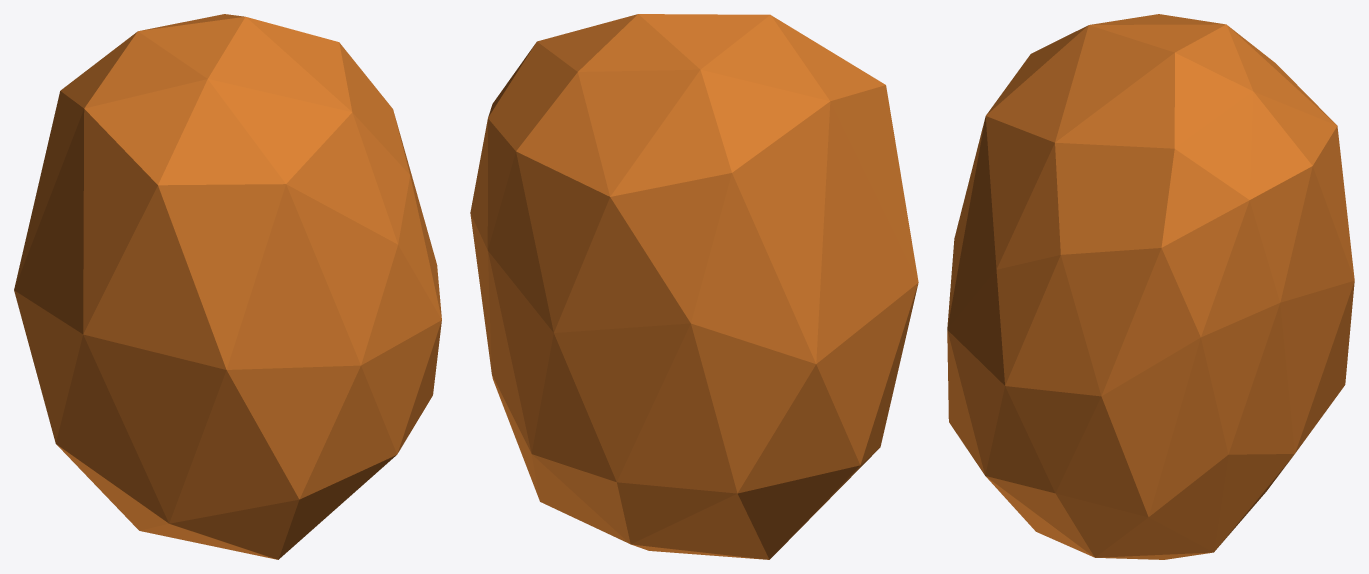
File: Potato_01.fbx
3 views of the same model, side by side, from view 1: azimuth 30°, elevation 25°; view 2: azimuth 150°, elevation 25°; view 3: azimuth 270°, elevation 25° (orthographic). The views are drawn at different scales.
Visible parts, largest first — view 1: Potato_01; view 2: Potato_01; view 3: Potato_01.
Part boxes in pixels (x1,y1,x2,y2): Potato_01: (14,14,441,559); Potato_01: (470,14,918,559); Potato_01: (947,14,1354,559).
Bounding box in the file's own units: 8.79 × 11.41 × 8.27.
